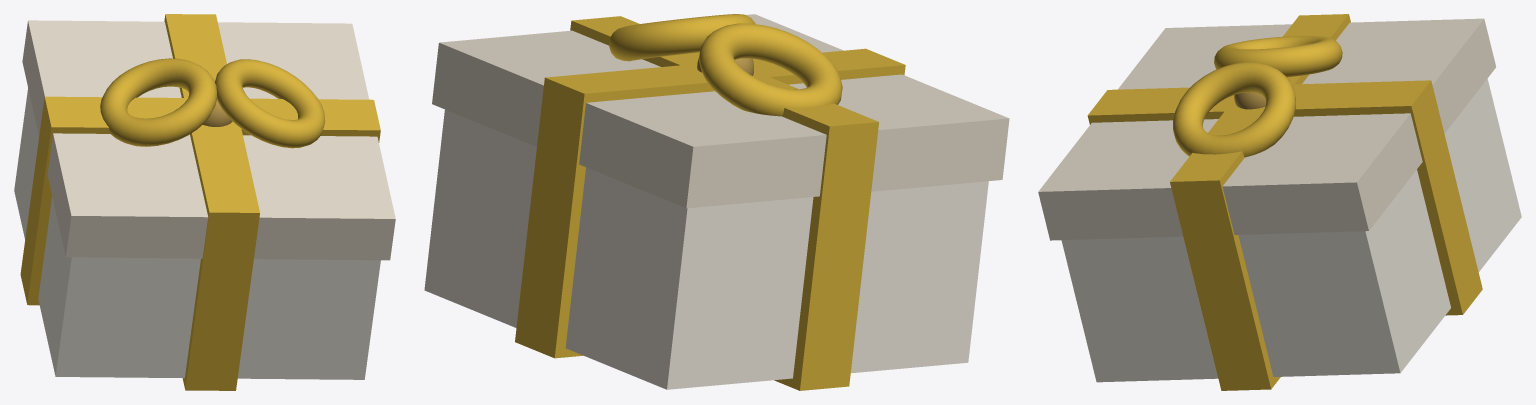
The model's file is gift_box.glb.
The picture shows the model from 3 angles, left to right: view 1: azimuth 30°, elevation 25°; view 2: azimuth 150°, elevation 25°; view 3: azimuth 270°, elevation 25°; orthographic projection. The views are drawn at different scales.
Size of the model in its own units: 1.66 by 1.16 by 1.76.
